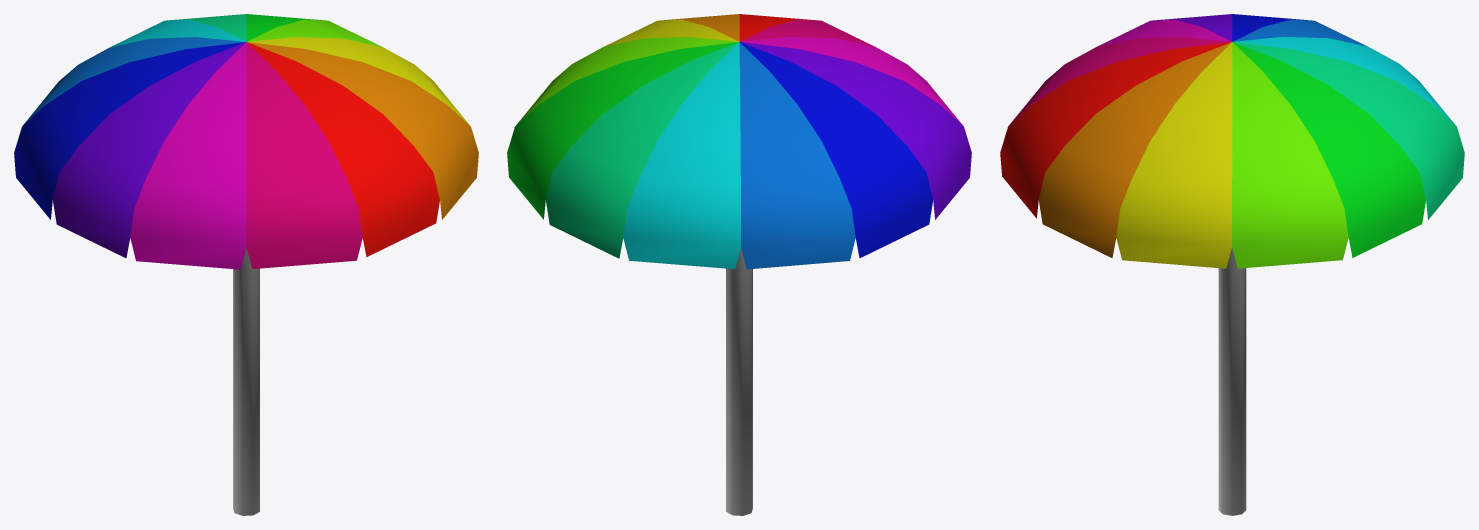
File: Umbrella_Smooth_8.fbx
3 renders of one model, left to right at view 1: azimuth 30°, elevation 25°; view 2: azimuth 150°, elevation 25°; view 3: azimuth 270°, elevation 25°, orthographic.
Parts seen in each view (by area): view 1: Top, Base; view 2: Top, Base; view 3: Top, Base.
Part boxes in pixels (x1=…): Top: x1=14, y1=14, x2=478, y2=269; Base: x1=233, y1=247, x2=259, y2=515; Top: x1=507, y1=14, x2=971, y2=269; Base: x1=726, y1=248, x2=752, y2=515; Top: x1=1000, y1=14, x2=1464, y2=268; Base: x1=1218, y1=248, x2=1246, y2=515.
Size of the model in its own units: 173 by 200 by 180.
